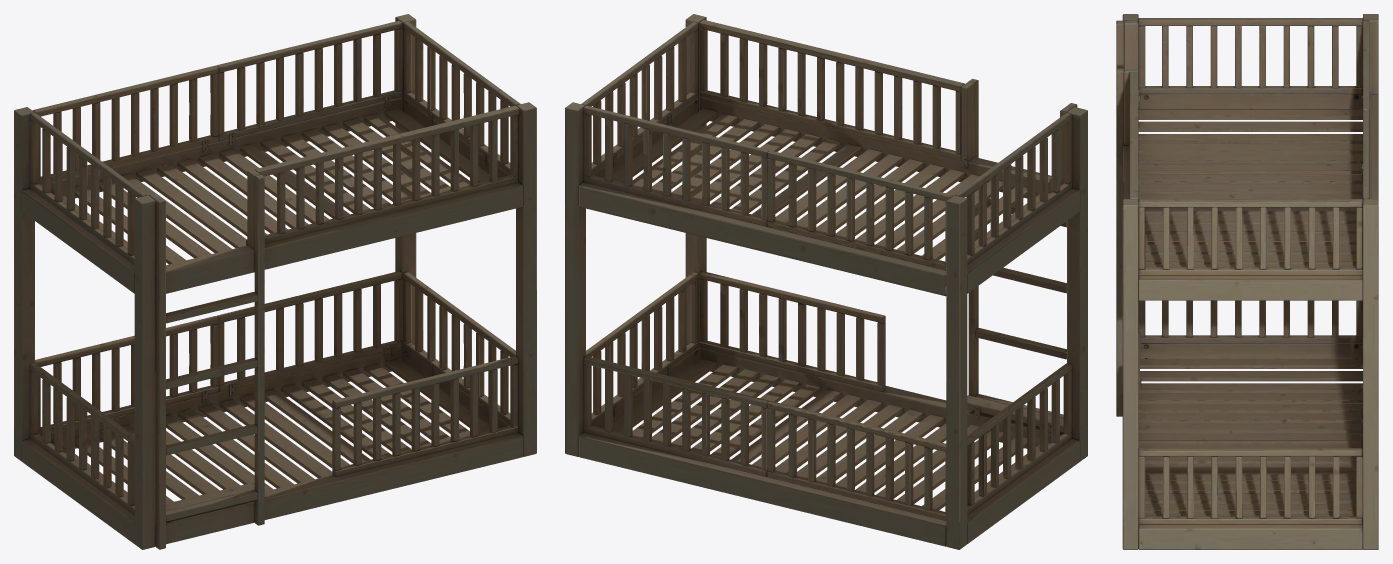
3 renders of one model, left to right at view 1: azimuth 30°, elevation 25°; view 2: azimuth 150°, elevation 25°; view 3: azimuth 270°, elevation 25°, orthographic.
Parts seen in each view (by area): view 1: 160x80; view 2: 160x80; view 3: 160x80.
Boxes of the visible parts, x1,y1,x2,y2 form: 160x80: (14, 14, 536, 549); 160x80: (565, 14, 1087, 549); 160x80: (1116, 14, 1378, 549).
Bounding box in the file's own units: 1.72 × 1.45 × 0.9951.
1 material, 1 textured.
